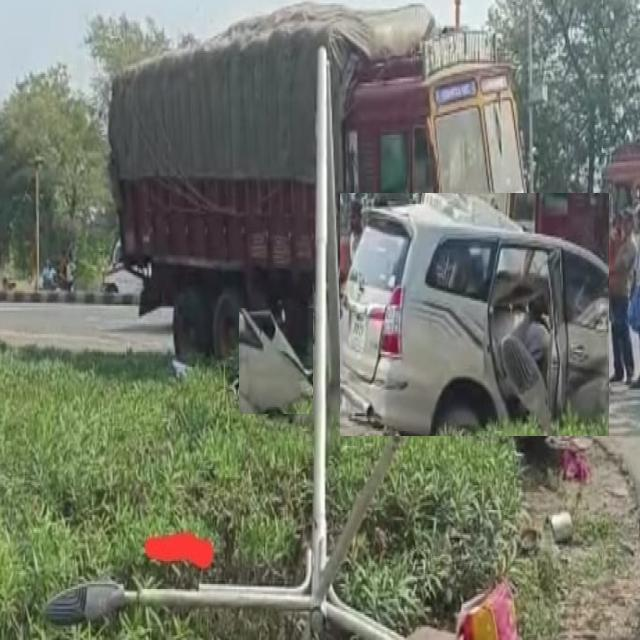accident: (340, 193, 609, 436), (239, 309, 313, 414)
truck: (109, 4, 524, 383)
